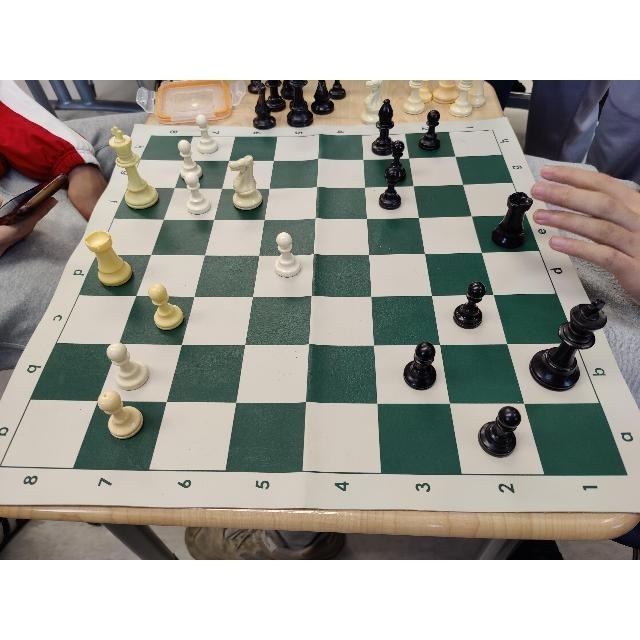black-bishop: (373, 99, 395, 157)
black-king: (529, 300, 607, 392)
black-pawn: (477, 406, 521, 458), (403, 342, 437, 391), (454, 280, 485, 329), (378, 169, 401, 209), (420, 109, 440, 153), (387, 139, 407, 181)
black-rook: (493, 191, 533, 249)
white-king: (108, 125, 158, 209)
white-knight: (227, 154, 263, 210)
white-pawn: (98, 391, 144, 439), (107, 343, 149, 391), (149, 283, 185, 330), (274, 231, 302, 278), (184, 173, 211, 215), (178, 139, 202, 179), (196, 115, 218, 155)
white-rook: (85, 232, 133, 288)
